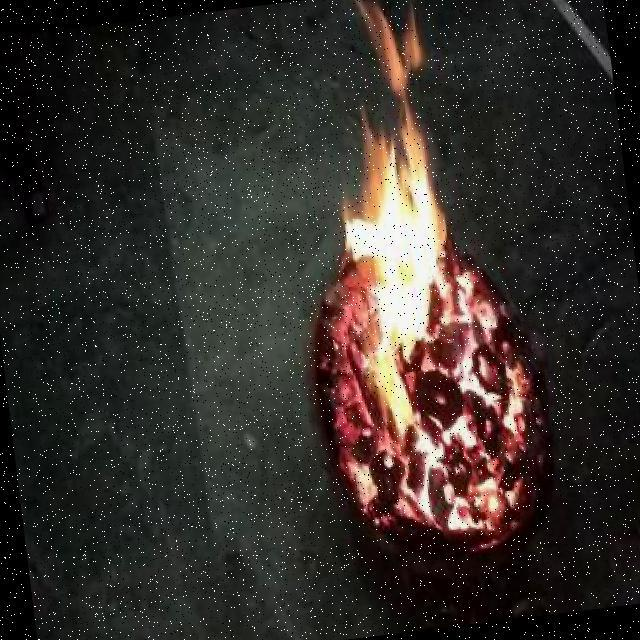Fire: (279, 0, 483, 520), (453, 244, 563, 547)
